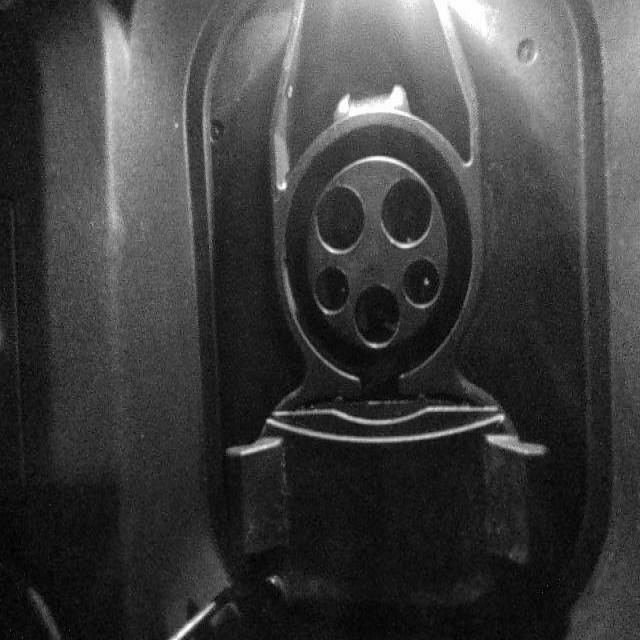Type 1: (286, 124, 458, 382)
